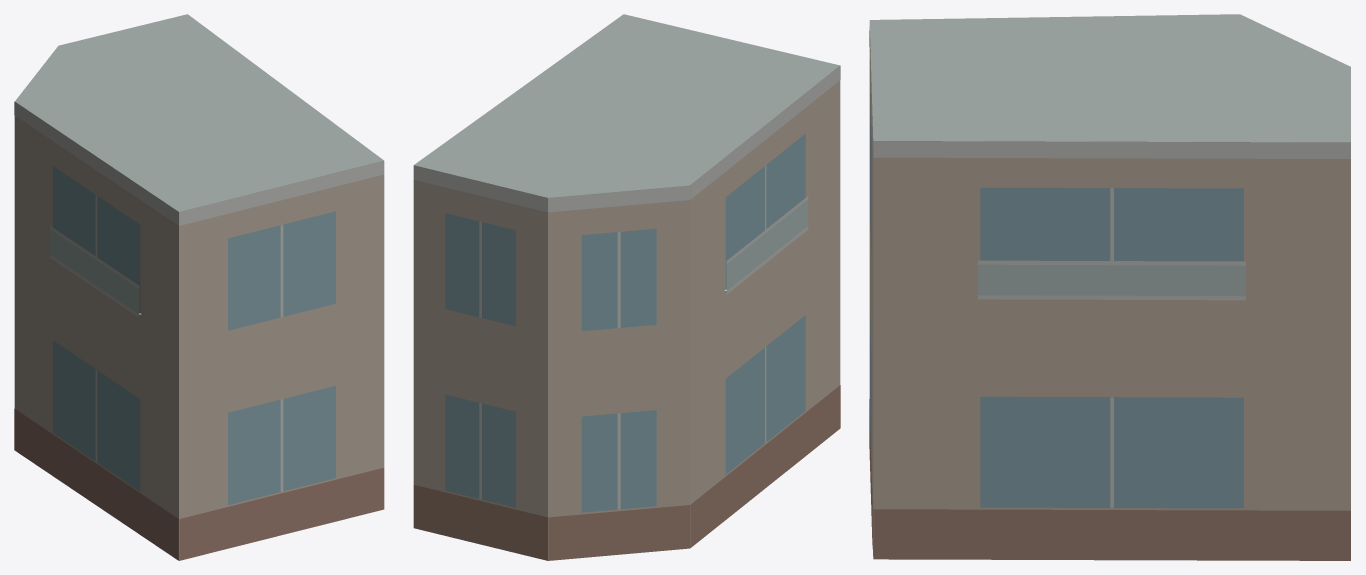
File: survey-upis-32464035.glb
The picture shows the model from 3 angles, left to right: view 1: azimuth 30°, elevation 25°; view 2: azimuth 150°, elevation 25°; view 3: azimuth 270°, elevation 25°; orthographic projection. The views are drawn at different scales.
Parts seen in each view (by area): view 1: survey-upis-32464035.tmp; view 2: survey-upis-32464035.tmp; view 3: survey-upis-32464035.tmp.
Boxes of the visible parts, <box> form: survey-upis-32464035.tmp: <box>14,14,384,560</box>; survey-upis-32464035.tmp: <box>413,14,840,560</box>; survey-upis-32464035.tmp: <box>869,14,1350,560</box>.
Bounding box in the file's own units: 4.05 × 6.1 × 6.38.
